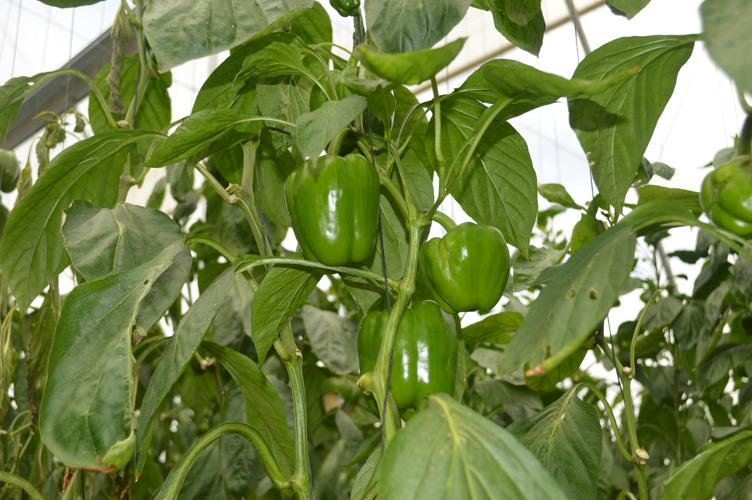BellPepper: (282, 150, 378, 260), (358, 300, 458, 404), (421, 223, 509, 311)
